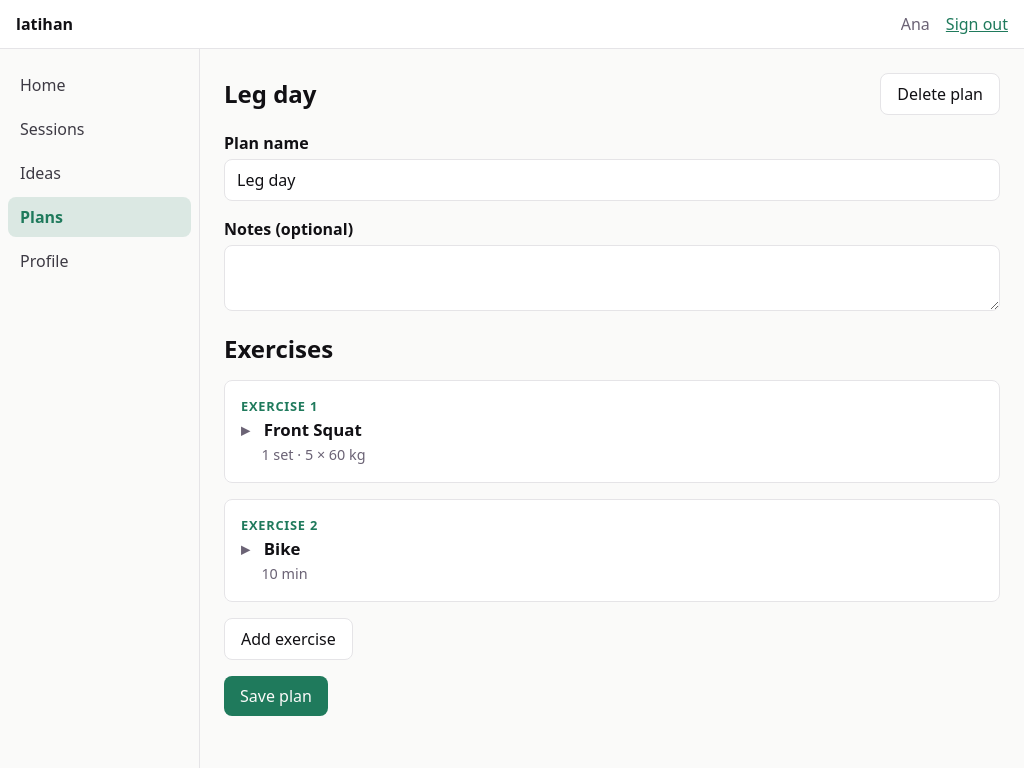
Test: editing a plan › can keep its own copy after a conflict and save it over the other change
Type " (laptop)" into the field labelled "Plan name". click: (612, 180)
box: [224,159,1000,201]
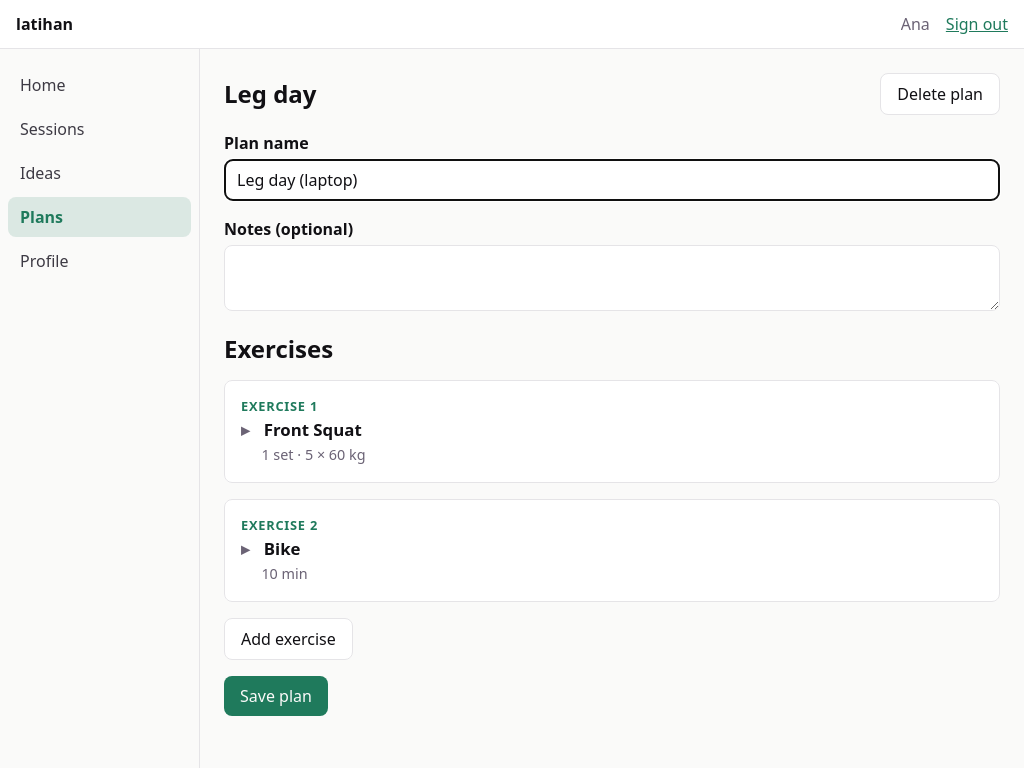
Click the button "Save plan". click: (276, 696)
box: [224,676,328,716]
(page scrolled)
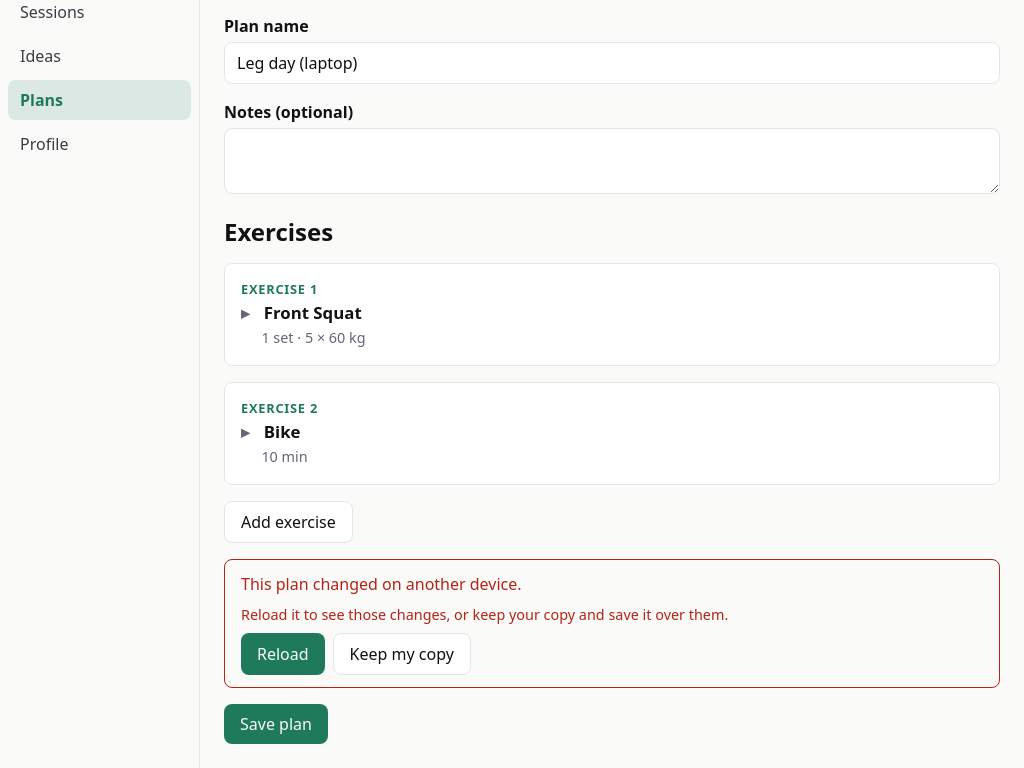
Click the button "Keep my copy". click: (402, 654)
box: [333,633,471,675]
(page scrolled)
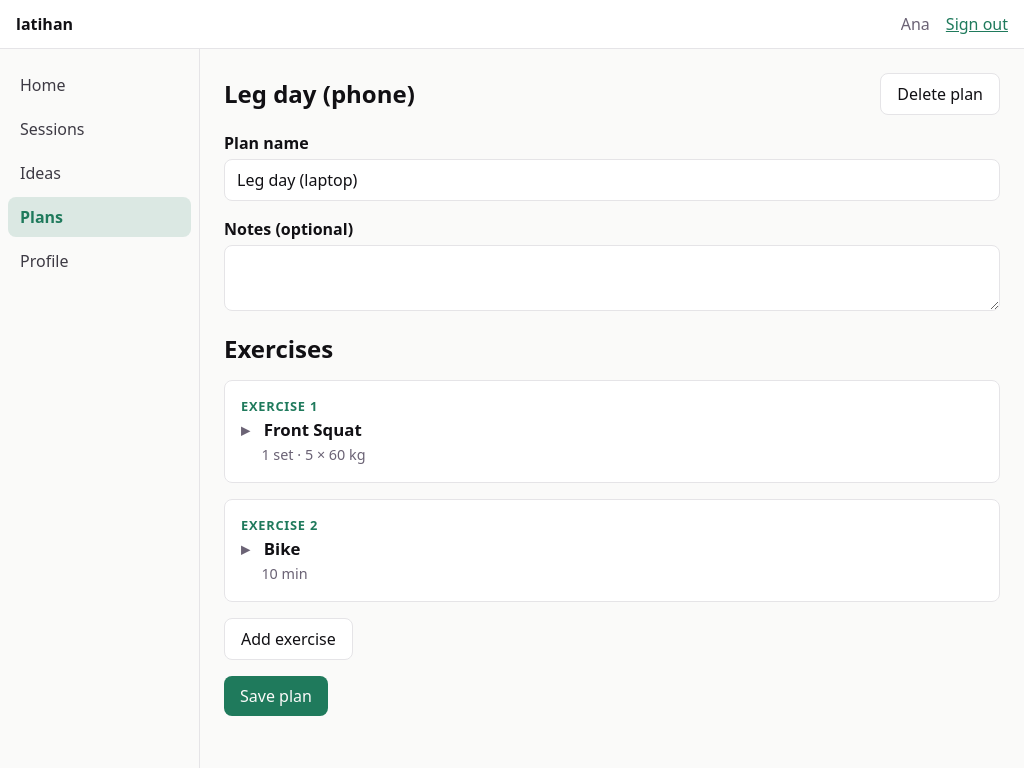
expect the field labelled "Plan name" holds "Leg day (laptop)": met, box [224,159,1000,201]
expect the message is gone: met
Click the button "Save plan". click: (276, 696)
box: [224,676,328,716]
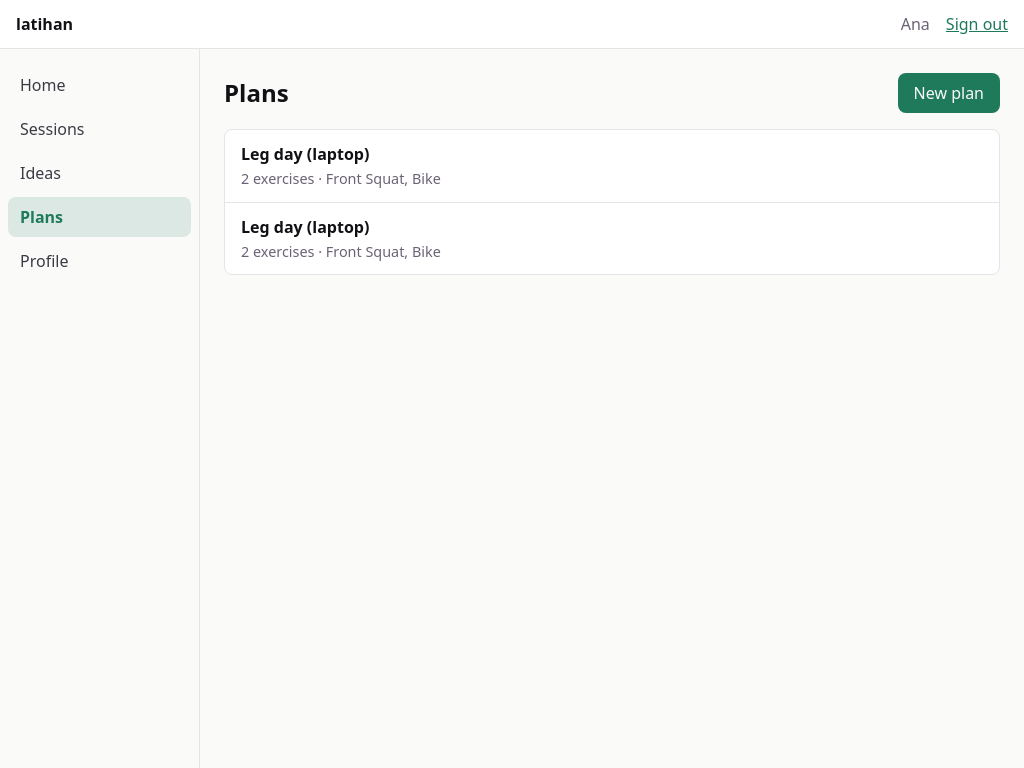
expect the heading "Plans" is shown: met, box [224,79,289,107]
expect the 1st text "Leg day (laptop)" is shown: met, box [241,143,369,165]
